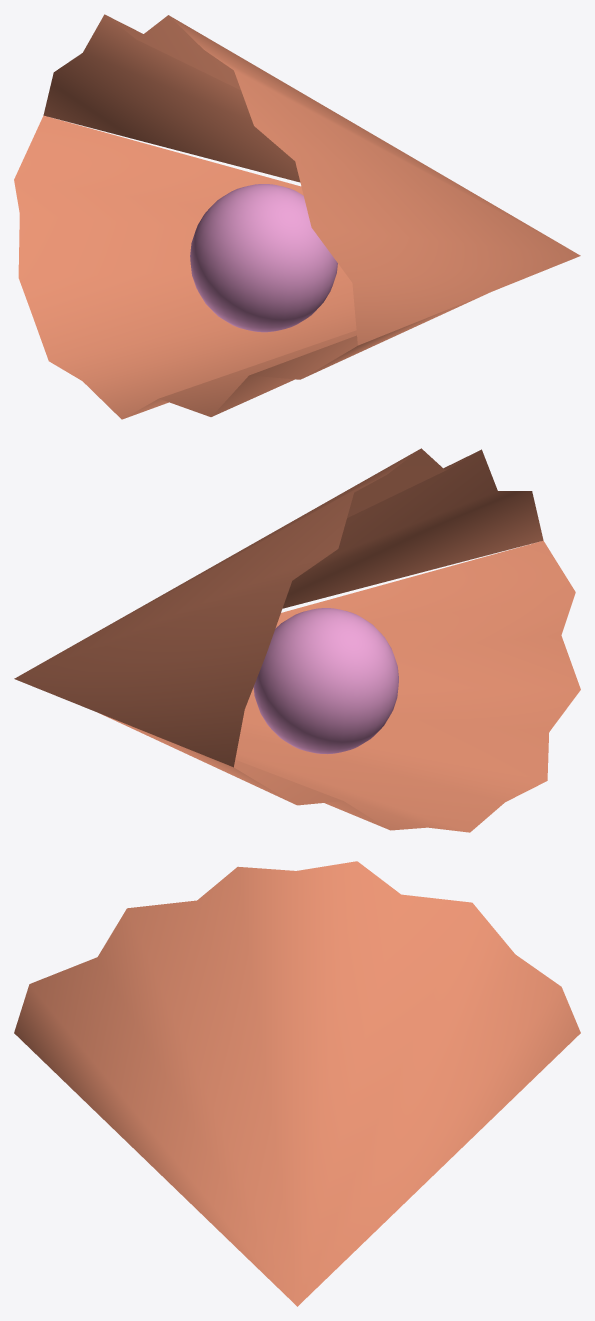
Rendered from clam.fbx.
3 renders of one model, top to bottom at view 1: azimuth 30°, elevation 25°; view 2: azimuth 150°, elevation 25°; view 3: azimuth 270°, elevation 25°, orthographic. The views are drawn at different scales.
Visible parts, largest first — view 1: Sphere; view 2: Sphere; view 3: Sphere.
Boxes of the visible parts, x1,y1,x2,y2 form: Sphere: (14,14,580,419); Sphere: (14,448,580,832); Sphere: (14,861,580,1306).
Size of the model in its own units: 59.63 by 36.53 by 64.91.
